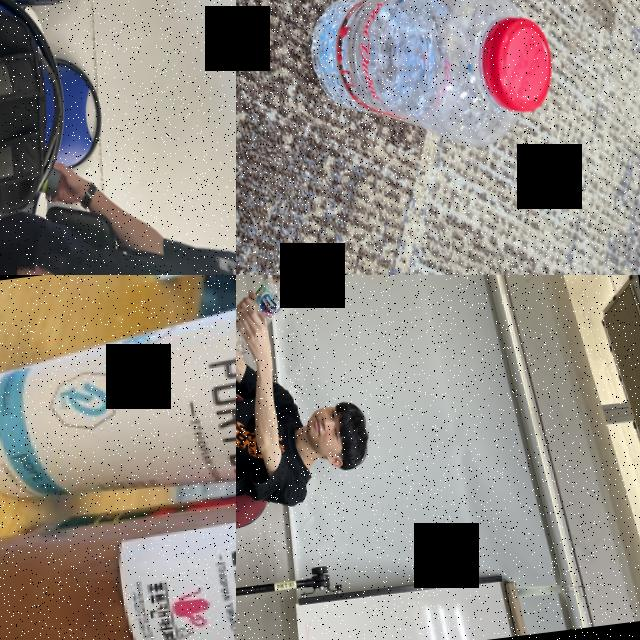bottle: (292, 0, 566, 153), (236, 276, 296, 357)
can: (0, 462, 236, 640)
cup: (0, 275, 236, 525)
